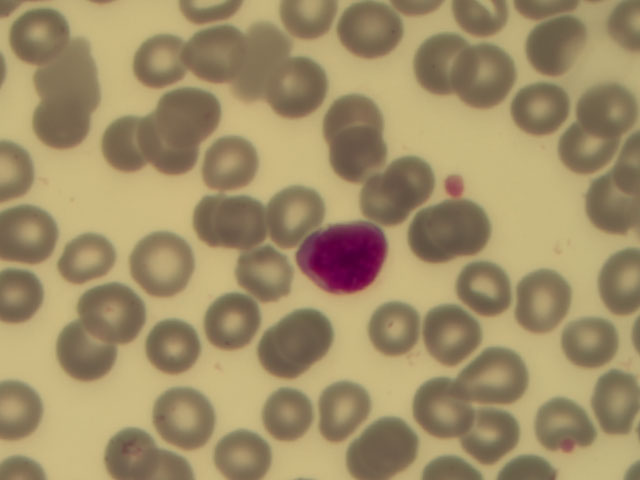Platelets: (443, 170, 463, 195)
RBC: (8, 6, 69, 69), (31, 40, 92, 103), (28, 88, 89, 151), (4, 204, 65, 267), (56, 217, 117, 280), (80, 279, 141, 342), (54, 314, 115, 377), (133, 232, 194, 295), (89, 110, 150, 173), (134, 117, 195, 180), (159, 87, 220, 150), (133, 30, 194, 93), (182, 22, 243, 85), (225, 31, 286, 94), (266, 58, 327, 121), (321, 81, 382, 144), (323, 123, 384, 186), (338, 1, 399, 64), (412, 30, 473, 93), (454, 42, 515, 105), (505, 78, 566, 141), (528, 12, 589, 75), (575, 75, 636, 138), (558, 111, 619, 174), (578, 171, 639, 234), (579, 243, 640, 306), (559, 306, 620, 369), (512, 267, 573, 330), (463, 257, 524, 320), (439, 195, 500, 258), (403, 204, 464, 267), (385, 148, 446, 211), (362, 169, 423, 232), (366, 302, 427, 365), (422, 304, 483, 367), (464, 338, 525, 401), (414, 373, 475, 436), (354, 412, 415, 475), (311, 382, 372, 445), (253, 380, 314, 443), (284, 303, 345, 366), (253, 317, 314, 380), (205, 292, 266, 355), (240, 243, 301, 306), (220, 192, 281, 255), (189, 187, 250, 250), (205, 132, 266, 195), (263, 175, 324, 238), (152, 384, 213, 447), (146, 317, 207, 380), (103, 417, 164, 480), (208, 417, 269, 480), (460, 402, 521, 465), (530, 390, 591, 453), (585, 371, 640, 424)
WBC: (299, 217, 383, 297)
